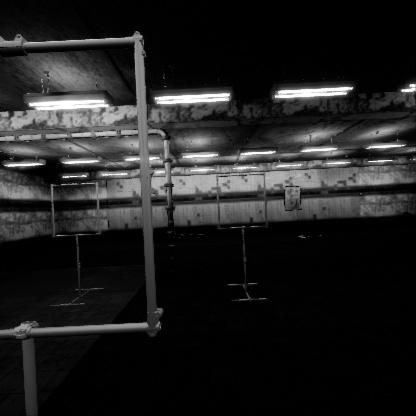gate: (216, 185, 272, 243), (51, 177, 105, 233)
